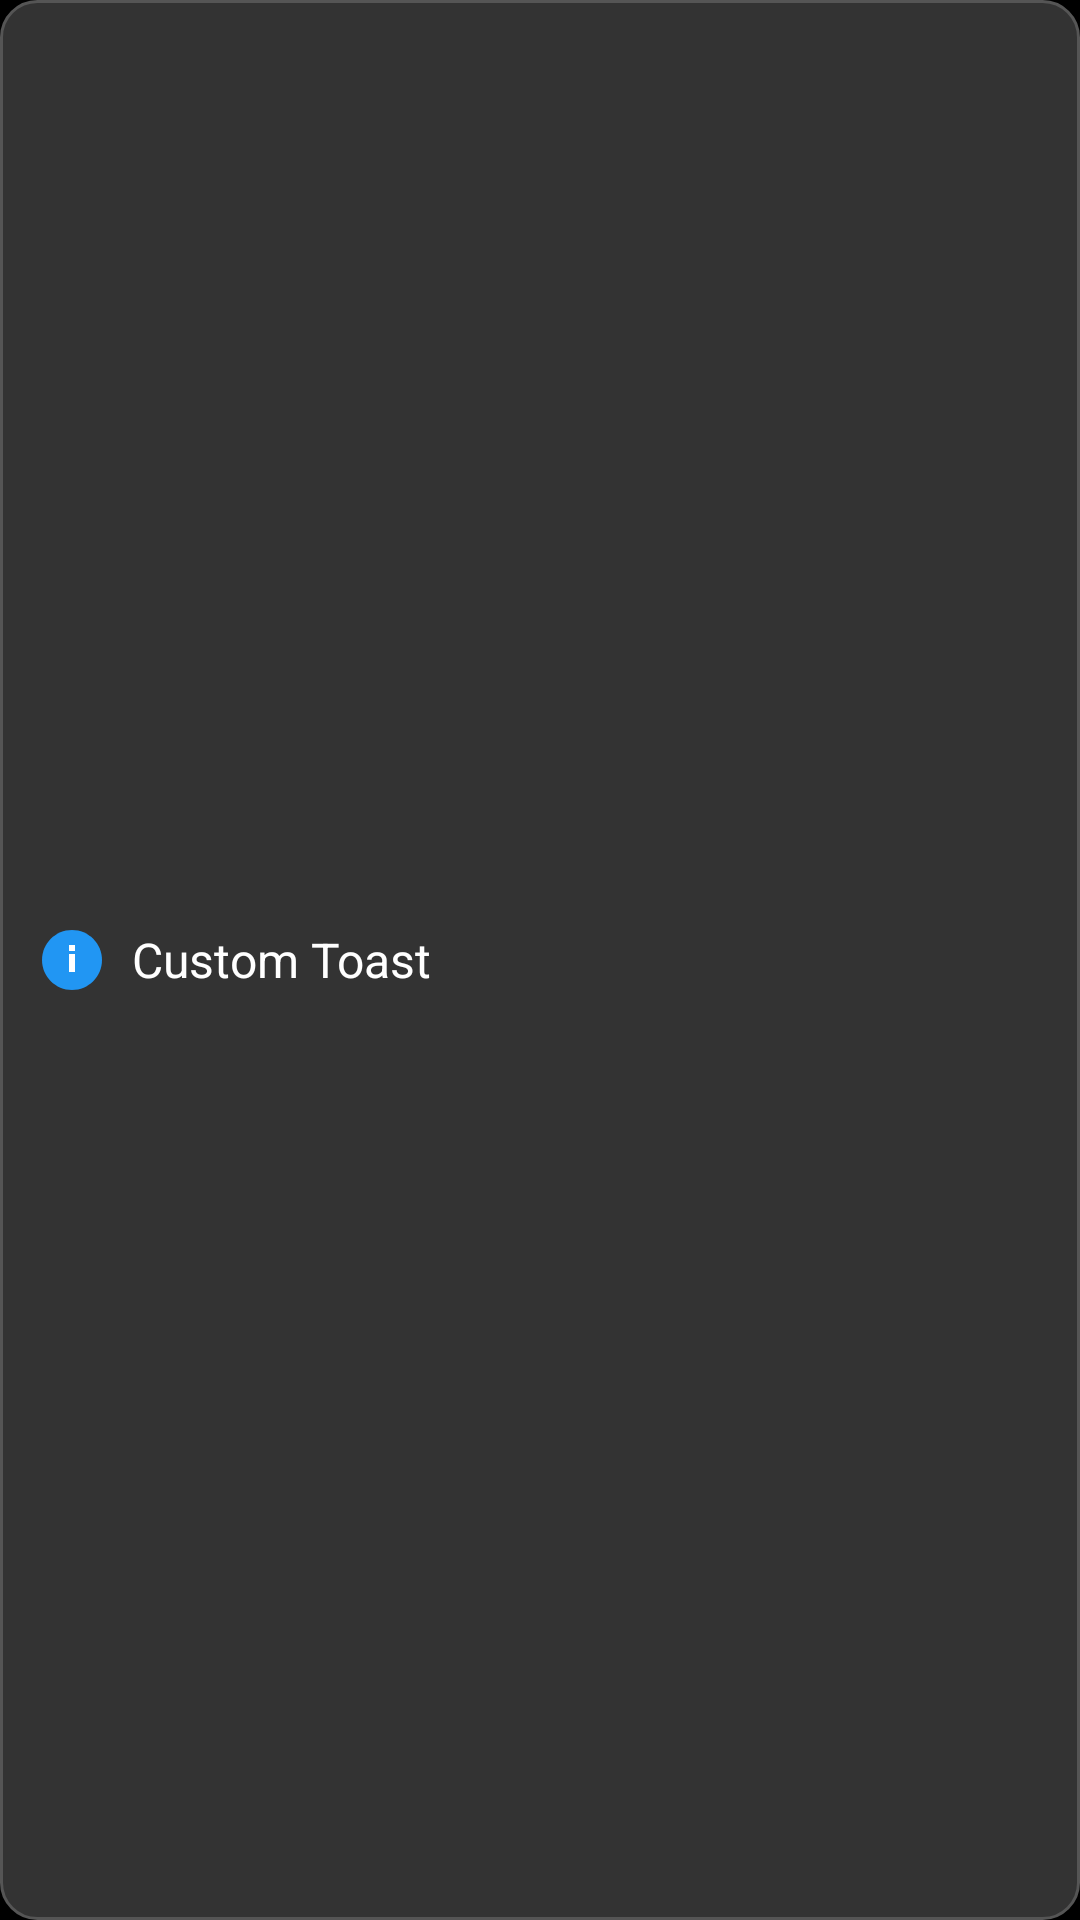

Point at icon controls on the screen. Image size 1080px x 1920px, points as (x,y).
info circle: (72,960)
